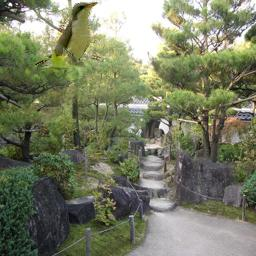Cuckoo: (34, 0, 99, 77)
